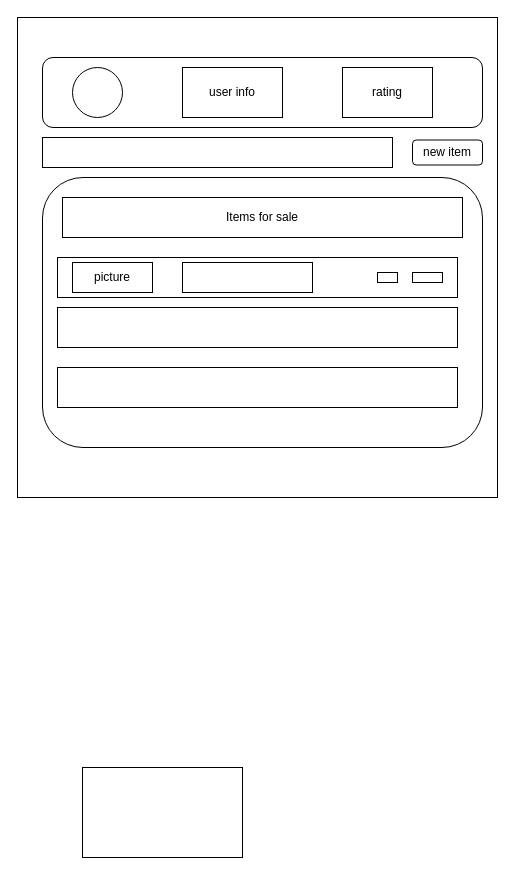
Image size: 515x875. Some labels were removed from this diagram. Each missing label, with the centre of its shape:
avatar: point 97,92
categories: point 217,152
desc: point 247,277
